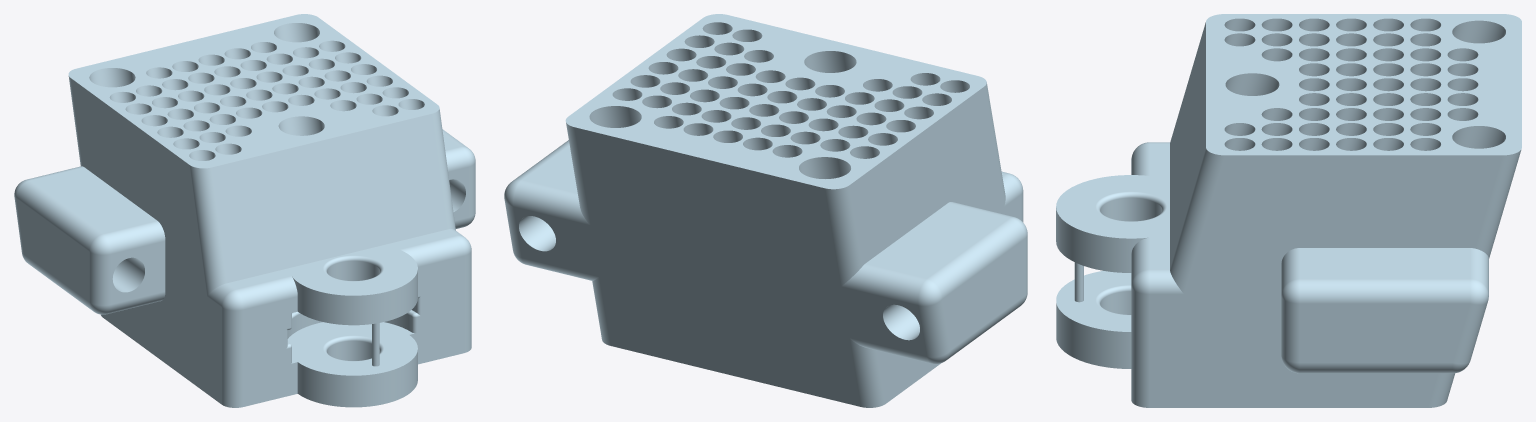
The picture shows the model from 3 angles, left to right: view 1: azimuth 30°, elevation 25°; view 2: azimuth 150°, elevation 25°; view 3: azimuth 270°, elevation 25°; orthographic projection. The views are drawn at different scales.
Parts seen in each view (by area): view 1: mesh28, mesh27, mesh211, mesh259, mesh261, mesh217, mesh247, mesh194, mesh243, mesh219, mesh202, mesh30 (+23 smaller); view 2: mesh235, mesh27, mesh211, mesh194, mesh202, mesh199, mesh29, mesh192, mesh193, mesh207, mesh198, mesh196 (+12 smaller); view 3: mesh237, mesh27, mesh229, mesh217, mesh196, mesh28, mesh226, mesh33, mesh243, mesh219, mesh247, mesh221 (+17 smaller).
Part boxes in pixels (x1=…): mesh28: x1=211, y1=114, x2=446, y2=283; mesh27: x1=68, y1=14, x2=439, y2=168; mesh211: x1=71, y1=78, x2=221, y2=404; mesh259: x1=243, y1=296, x2=297, y2=406; mesh261: x1=410, y1=256, x2=463, y2=364; mesh217: x1=227, y1=229, x2=455, y2=295; mesh247: x1=287, y1=322, x2=417, y2=375; mesh194: x1=30, y1=167, x2=156, y2=233; mesh243: x1=297, y1=350, x2=417, y2=407; mesh219: x1=292, y1=270, x2=417, y2=325; mesh202: x1=16, y1=198, x2=89, y2=301; mesh30: x1=189, y1=165, x2=226, y2=295; mesh235: x1=513, y1=127, x2=926, y2=406; mesh27: x1=565, y1=14, x2=986, y2=189; mesh211: x1=849, y1=87, x2=1020, y2=403; mesh194: x1=866, y1=203, x2=1009, y2=278; mesh202: x1=942, y1=238, x2=1025, y2=349; mesh199: x1=927, y1=218, x2=1025, y2=298; mesh29: x1=824, y1=185, x2=862, y2=286; mesh192: x1=841, y1=263, x2=926, y2=305; mesh193: x1=513, y1=180, x2=590, y2=225; mesh207: x1=849, y1=338, x2=885, y2=407; mesh198: x1=918, y1=299, x2=950, y2=357; mesh196: x1=522, y1=145, x2=577, y2=193; mesh237: x1=1150, y1=155, x2=1502, y2=407; mesh27: x1=1206, y1=14, x2=1521, y2=155; mesh229: x1=1300, y1=303, x2=1469, y2=362; mesh217: x1=1056, y1=144, x2=1169, y2=269; mesh196: x1=1300, y1=248, x2=1470, y2=278; mesh28: x1=1170, y1=22, x2=1205, y2=268; mesh226: x1=1300, y1=279, x2=1470, y2=303; mesh33: x1=1170, y1=148, x2=1224, y2=293; mesh243: x1=1056, y1=303, x2=1131, y2=368; mesh219: x1=1056, y1=208, x2=1147, y2=272; mesh247: x1=1056, y1=271, x2=1131, y2=331; mesh221: x1=1131, y1=287, x2=1149, y2=407.
Size of the model in its own units: 0.0279 by 0.015 by 0.0251.
